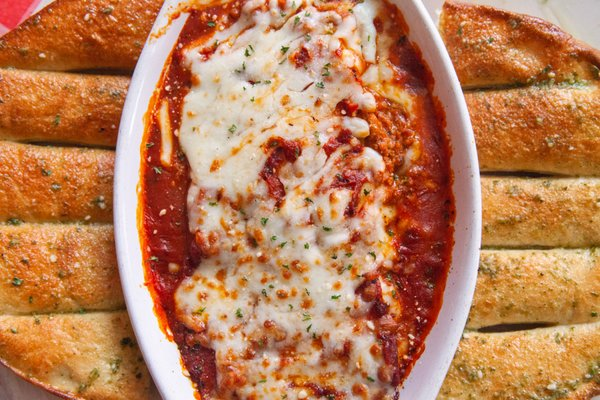sandwich: (135, 0, 461, 394)
